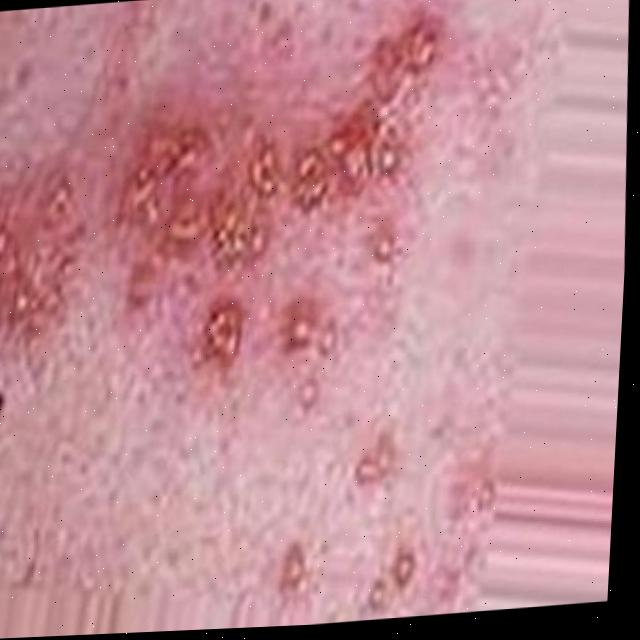Shingles: (0, 1, 459, 387)
